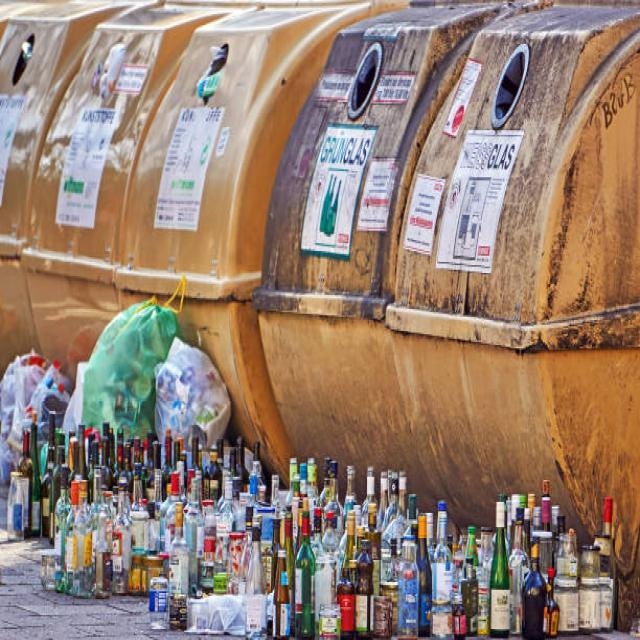glass: (407, 513, 613, 635), (145, 477, 271, 640), (72, 486, 116, 599), (294, 514, 317, 640)
metal: (331, 31, 594, 466), (10, 24, 252, 278)
plastic: (104, 312, 233, 433), (8, 361, 50, 403)
